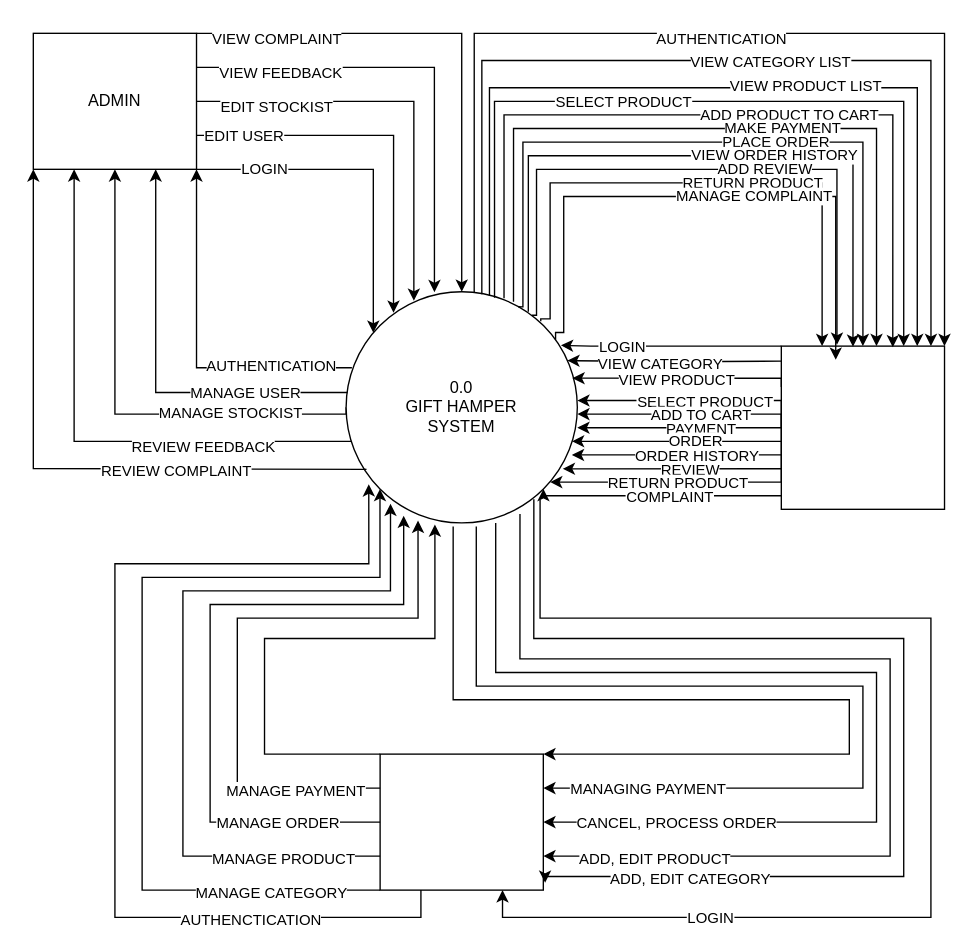
The diagram is 979 pixels wide and 952 high, and some of its shapes have lost their labels. The centre of each missing label's shape, as x and y in pixels:
"GIFT STOCKIST" belongs at (461,821).
"USER" belongs at (862,427).
